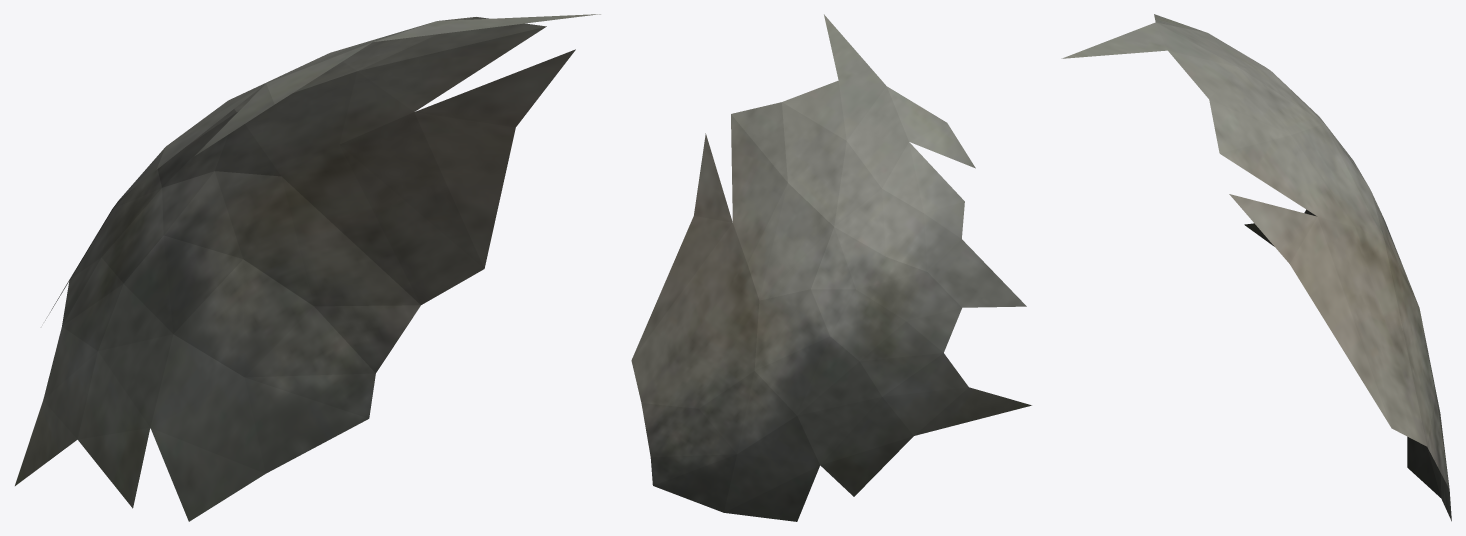
Rendered from terrain4_rock_0.glb.
3 views of the same model, side by side, from view 1: azimuth 30°, elevation 25°; view 2: azimuth 150°, elevation 25°; view 3: azimuth 270°, elevation 25° (orthographic). The views are drawn at different scales.
Parts seen in each view (by area): view 1: rock_0; view 2: rock_0; view 3: rock_0.
Part boxes in pixels (<box>): rock_0: <box>15,14,600,521</box>; rock_0: <box>631,14,1031,521</box>; rock_0: <box>1061,14,1451,521</box>.
Size of the model in its own units: 5.37 by 5.7 by 4.24.
Materials: 1 (1 with a texture image).
